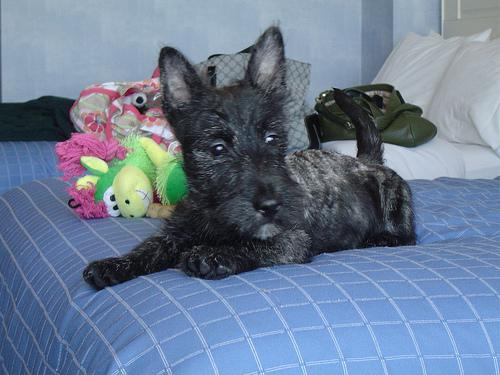dog-scottish_terrier: (158, 26, 299, 237)
